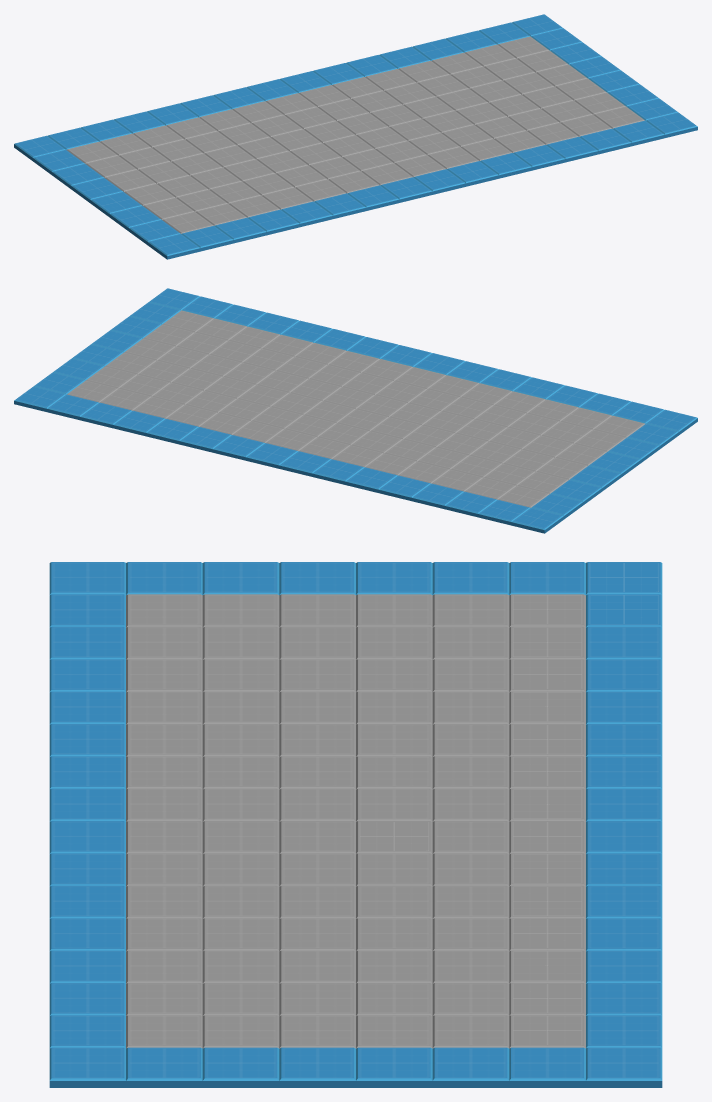
Rendered from ground.glb.
3 views of the same model, one above another, from view 1: azimuth 30°, elevation 25°; view 2: azimuth 150°, elevation 25°; view 3: azimuth 270°, elevation 25° (orthographic). The views are drawn at different scales.
Visible parts, largest first — view 1: Floor_Prototype.001; view 2: Floor_Prototype.001; view 3: Floor_Prototype.001.
Boxes of the visible parts, left/top/right/bottom form: Floor_Prototype.001: left=14, top=14, right=697, bottom=259; Floor_Prototype.001: left=14, top=288, right=697, bottom=533; Floor_Prototype.001: left=49, top=562, right=662, bottom=1087.
Bounding box in the file's own units: 64 × 0.5 × 32.
Materials: 128 (128 with a texture image).
